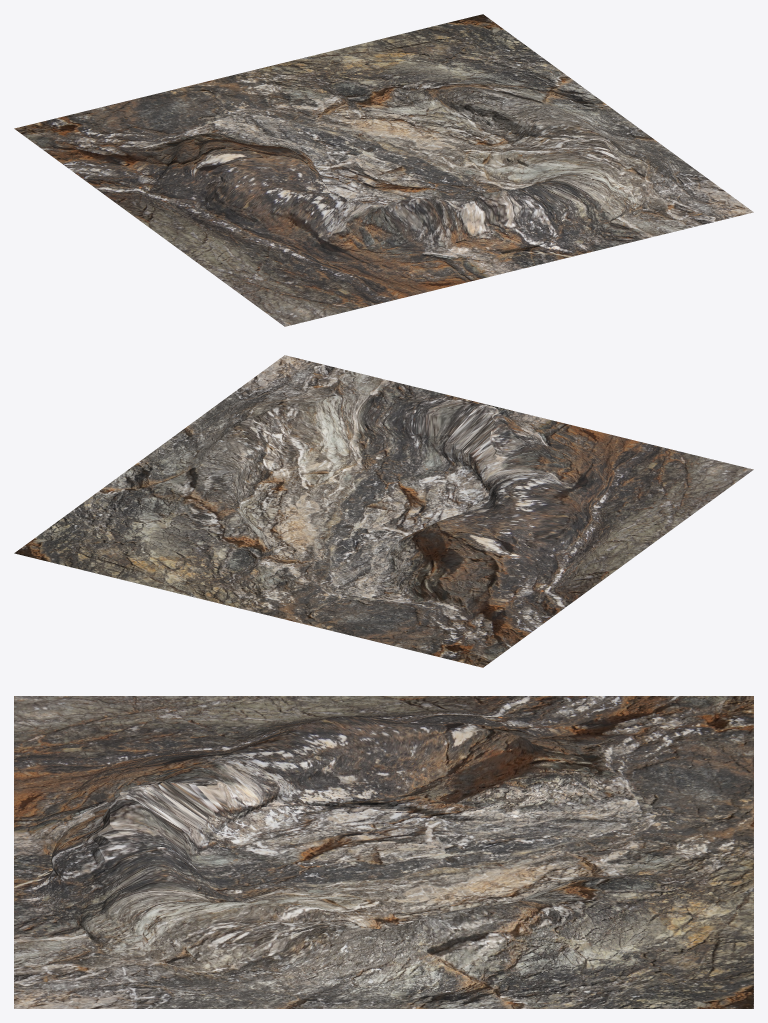
Rendered from map2.gltf.
3 views of the same model, one above another, from view 1: azimuth 30°, elevation 25°; view 2: azimuth 150°, elevation 25°; view 3: azimuth 270°, elevation 25° (orthographic). The views are drawn at different scales.
Parts seen in each view (by area): view 1: Plane.001; view 2: Plane.001; view 3: Plane.001.
Boxes of the visible parts, <box> form: Plane.001: <box>14,14,753,326</box>; Plane.001: <box>14,355,753,667</box>; Plane.001: <box>14,696,753,1008</box>.
Bounding box in the file's own units: 10 × 0.7849 × 10.
1 material, 1 textured.
